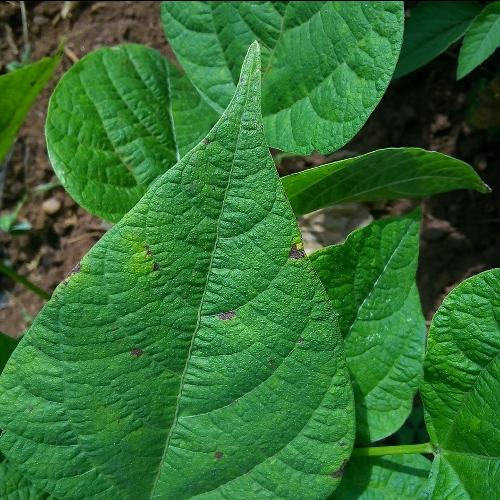hawar: (132, 227, 328, 364)
sehat: (75, 57, 184, 153)
